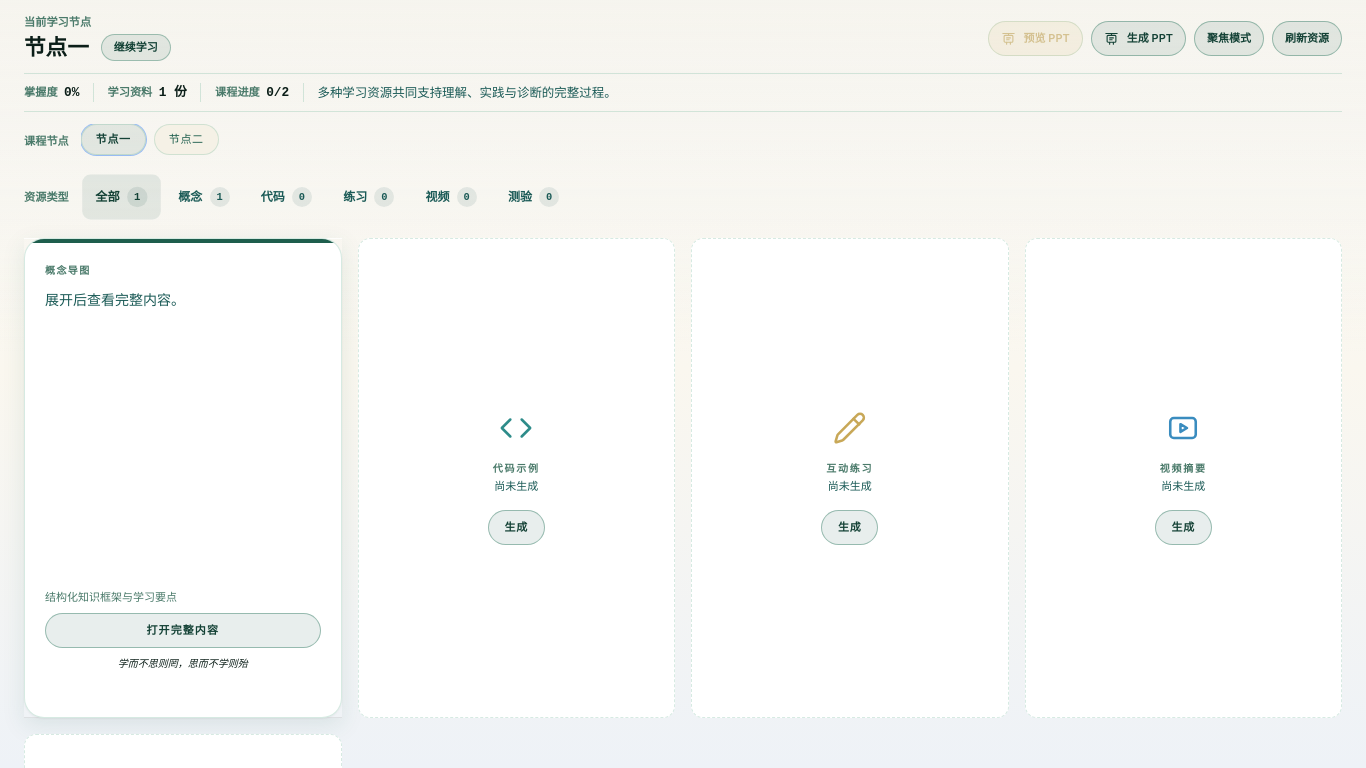
Test case: ResourceCanvas PPT export › downloads the generated deck for the active node
Click the button titled "下载当前节点学习 PPT" at [1138, 39], box [1091,21,1186,56]
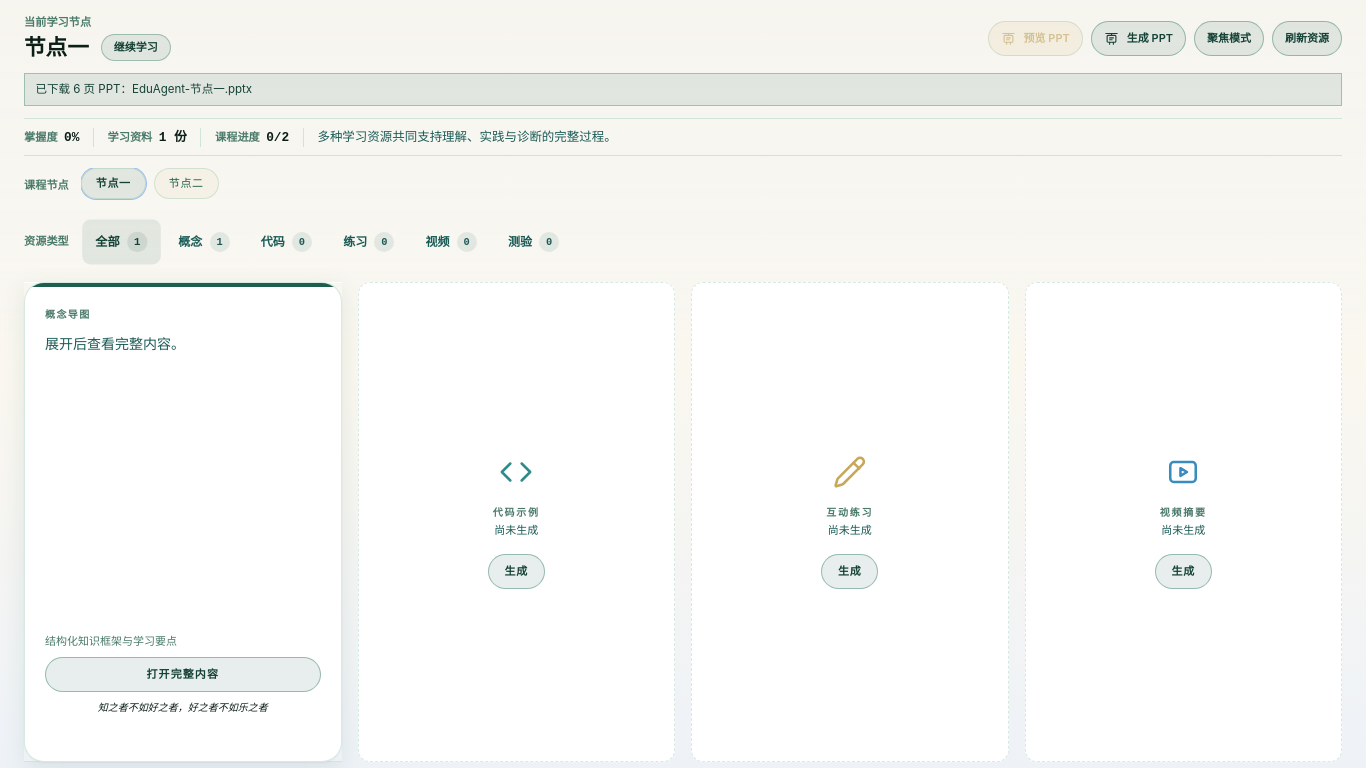
Check: the text "已下载 6 页 PPT：EduAgent-节点一.pptx" is shown, box [24,73,1342,106]
